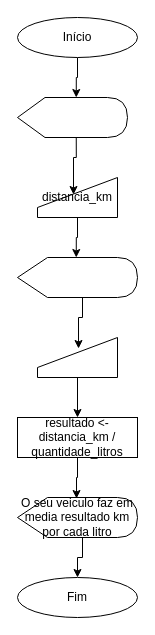
Image size: 155x635. Some labels were removed from this diagram. The shapes that lost their labels are listed below. From the top down, each one's box as (x1, y1, x2, y2) in pixels, then its label:
(16, 96, 128, 138): Qual foi a distancia percorrida em km?
(16, 256, 138, 298): Qual foi a quantidade de combustivel gasto em litros?
(36, 336, 118, 378): quantidade_litros
